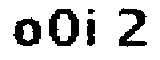0: (48, 3, 82, 52)
2: (114, 5, 150, 53)
i: (86, 5, 99, 50)
o: (14, 17, 43, 48)
